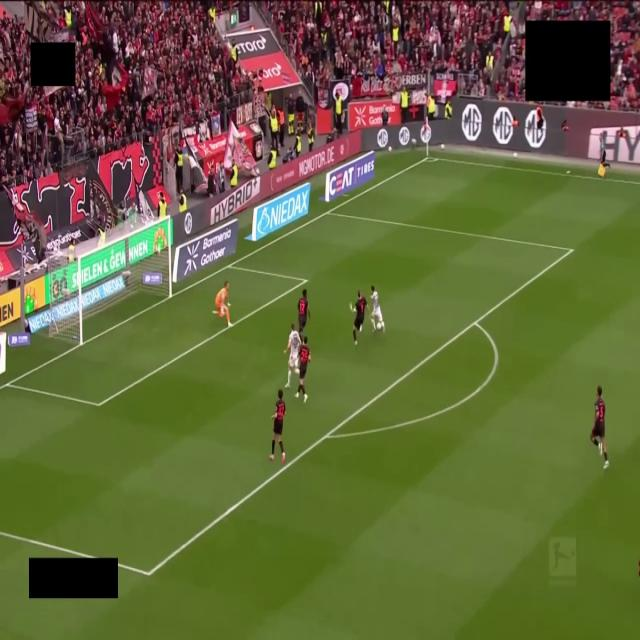ball: (377, 323, 381, 330)
player: (591, 386, 609, 469), (270, 390, 285, 463), (285, 324, 301, 388), (295, 336, 310, 402), (350, 291, 367, 344), (214, 281, 231, 327), (371, 286, 384, 332), (298, 289, 309, 335)
